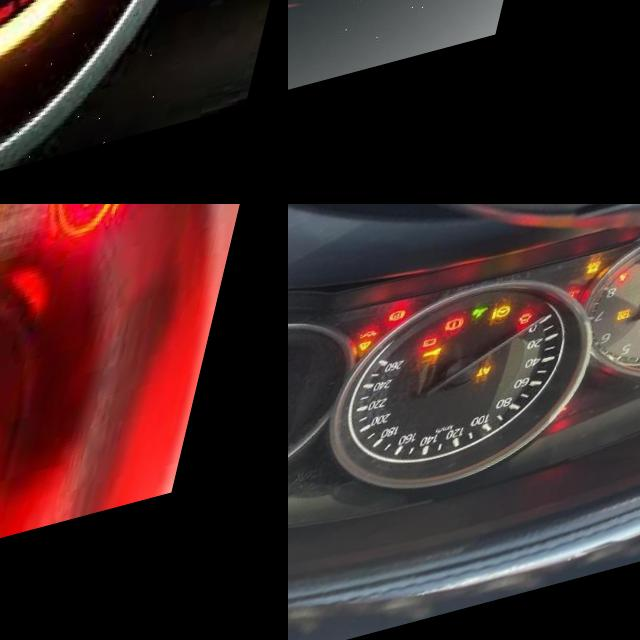Electronic Power Steering: (507, 325, 528, 342)
Seat Belt: (633, 298, 640, 310)
